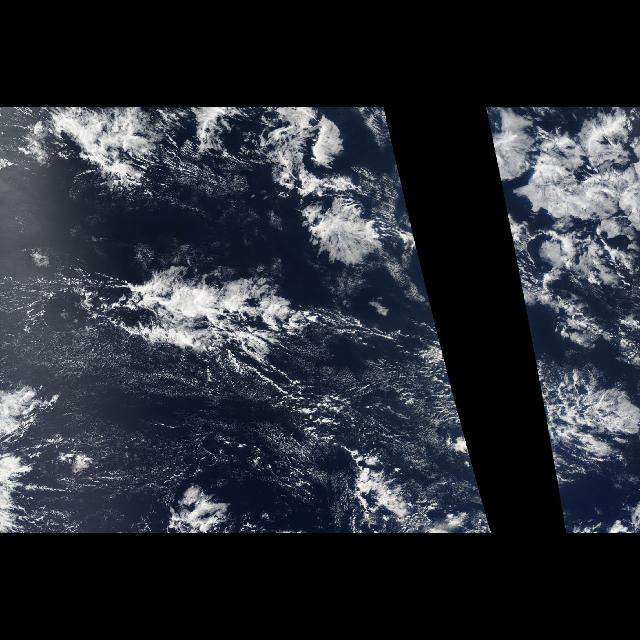Fish: (85, 269, 385, 379)
Flower: (258, 118, 426, 284), (487, 118, 635, 284)
Sugar: (24, 334, 462, 480)
